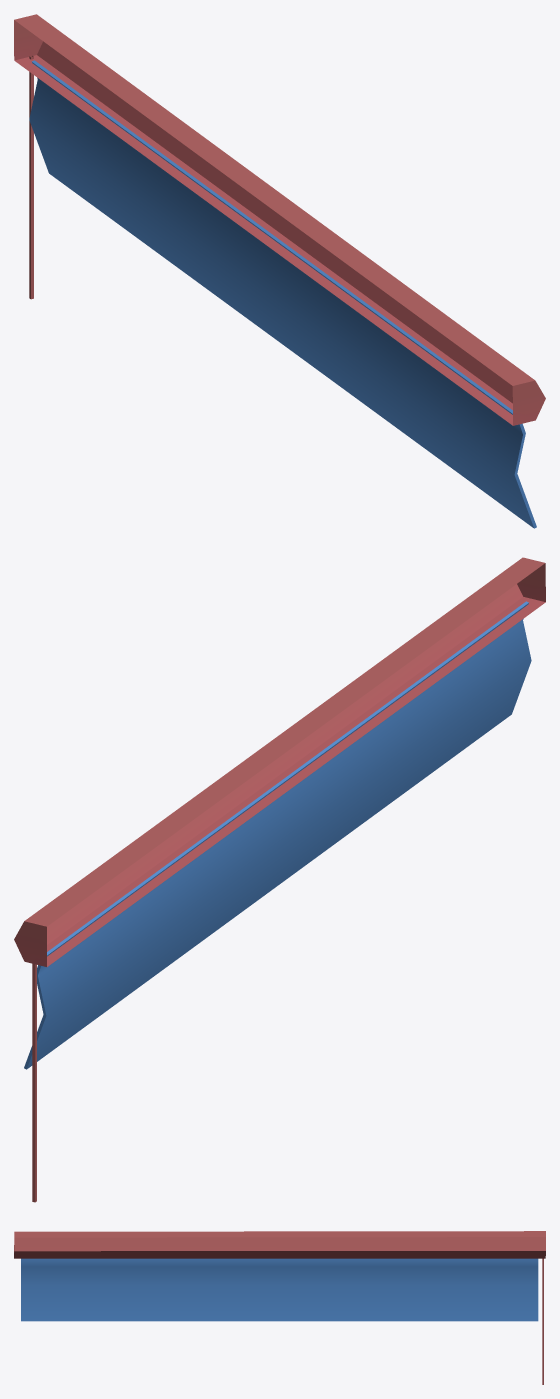
Rendered from Garage_Cornice.fbx.
3 views of the same model, one above another, from view 1: azimuth 30°, elevation 25°; view 2: azimuth 150°, elevation 25°; view 3: azimuth 270°, elevation 25° (orthographic). The views are drawn at different scales.
Parts seen in each view (by area): view 1: Garage_Cornice; view 2: Garage_Cornice; view 3: Garage_Cornice.
Boxes of the visible parts, <box> form: Garage_Cornice: <box>14,14,545,528</box>; Garage_Cornice: <box>14,557,545,1202</box>; Garage_Cornice: <box>14,1231,545,1384</box>.
Bounding box in the file's own units: 14 × 113 × 366.
